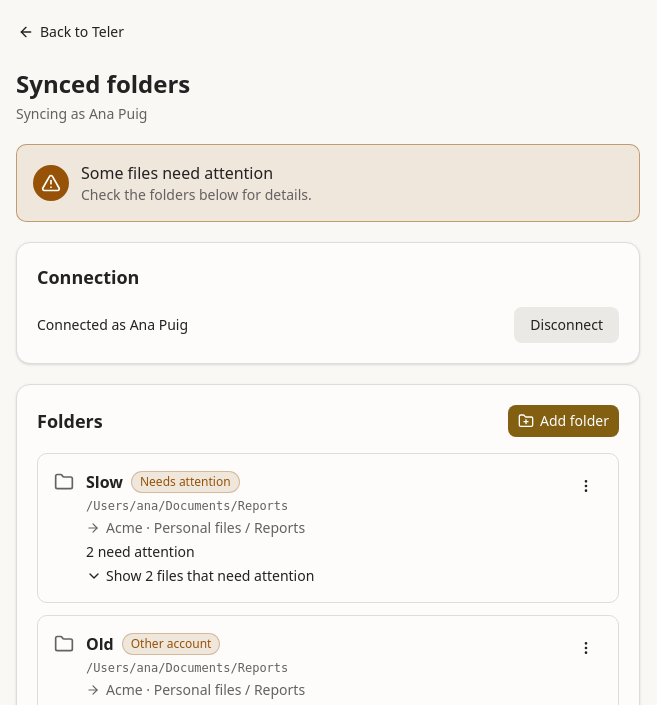
Test: folders › labels retrying files and explains folders from another account
Expected: the element with test id "status-banner" is shown, left=16, top=144, right=640, bottom=222
Click the button "Show 2 files that need attention".
click(200, 576)  # box left=86, top=566, right=314, bottom=586
(page scrolled)
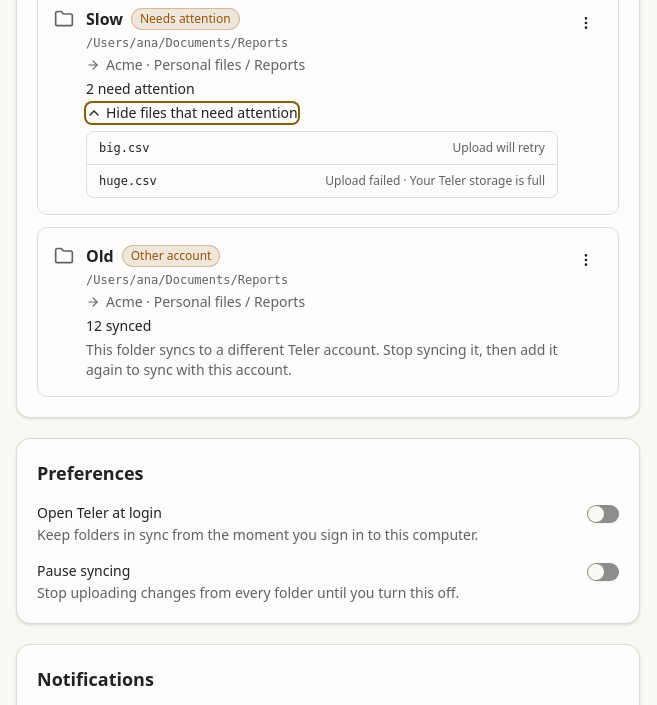
Expected: the text "Other account" is shown, left=122, top=245, right=220, bottom=267
Now the text "Upload will retry" is shown, box left=452, top=140, right=545, bottom=156
Now the text "Upload failed · Your Teler storage is full" is shown, box left=325, top=173, right=545, bottom=189
